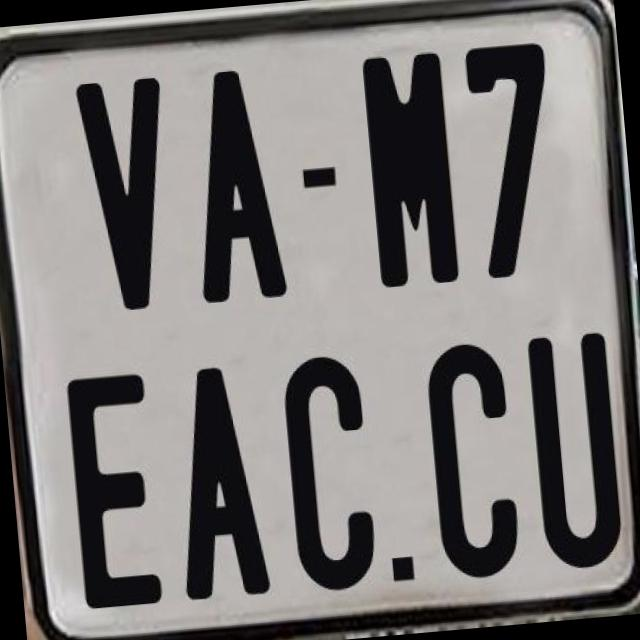7: (462, 41, 560, 282)
A: (183, 65, 290, 306), (165, 360, 269, 600)
C: (280, 350, 380, 599), (419, 337, 518, 586)
E: (62, 371, 166, 610)
M: (358, 49, 462, 292)
U: (524, 330, 630, 568)
V: (70, 73, 176, 314)
